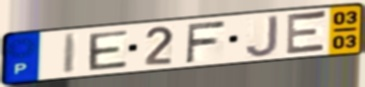2: (143, 25, 176, 67)
E: (284, 9, 330, 57), (86, 28, 130, 72)
F: (183, 19, 228, 65)
I: (62, 31, 80, 75)
J: (243, 14, 280, 59)
